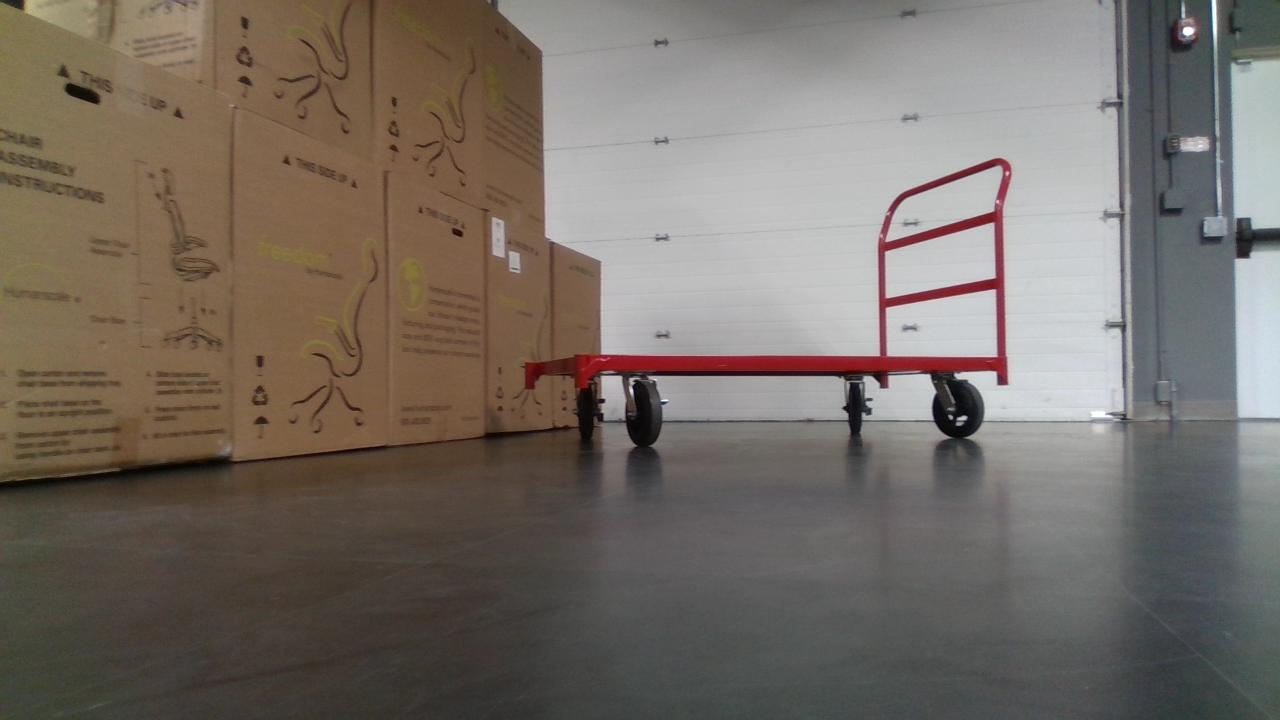Dolly: (524, 156, 1014, 449)
Wheel: (623, 378, 670, 448), (930, 378, 984, 438), (573, 378, 604, 444), (841, 379, 873, 436)
